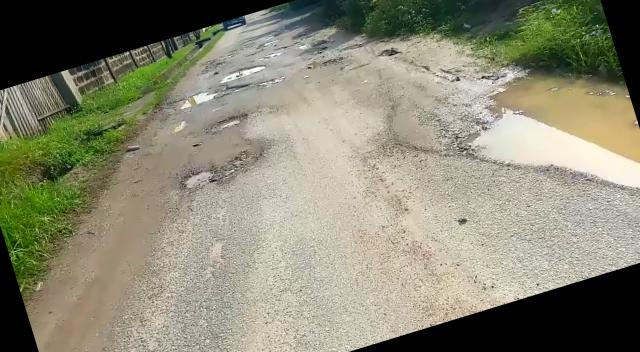pothole: (440, 40, 640, 245), (175, 147, 262, 194), (162, 78, 244, 115), (205, 109, 250, 135), (220, 61, 268, 84)
